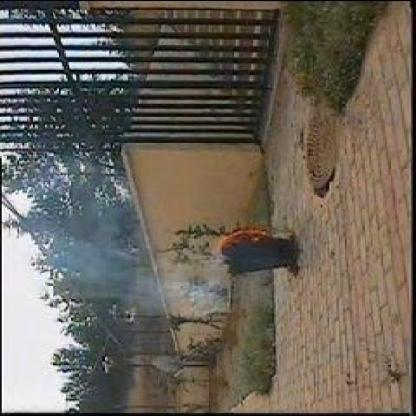-: (71, 258, 222, 313)
foggia-v2-map80-epoch100 - v1 4323: (216, 224, 263, 242)
